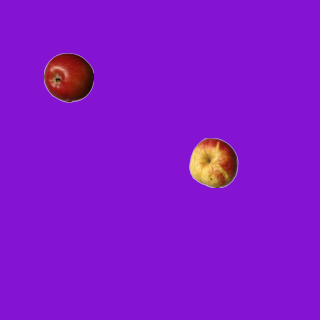Apple Braeburn: (43, 52, 93, 102)
Apple Red Yellow 1: (188, 137, 238, 187)
